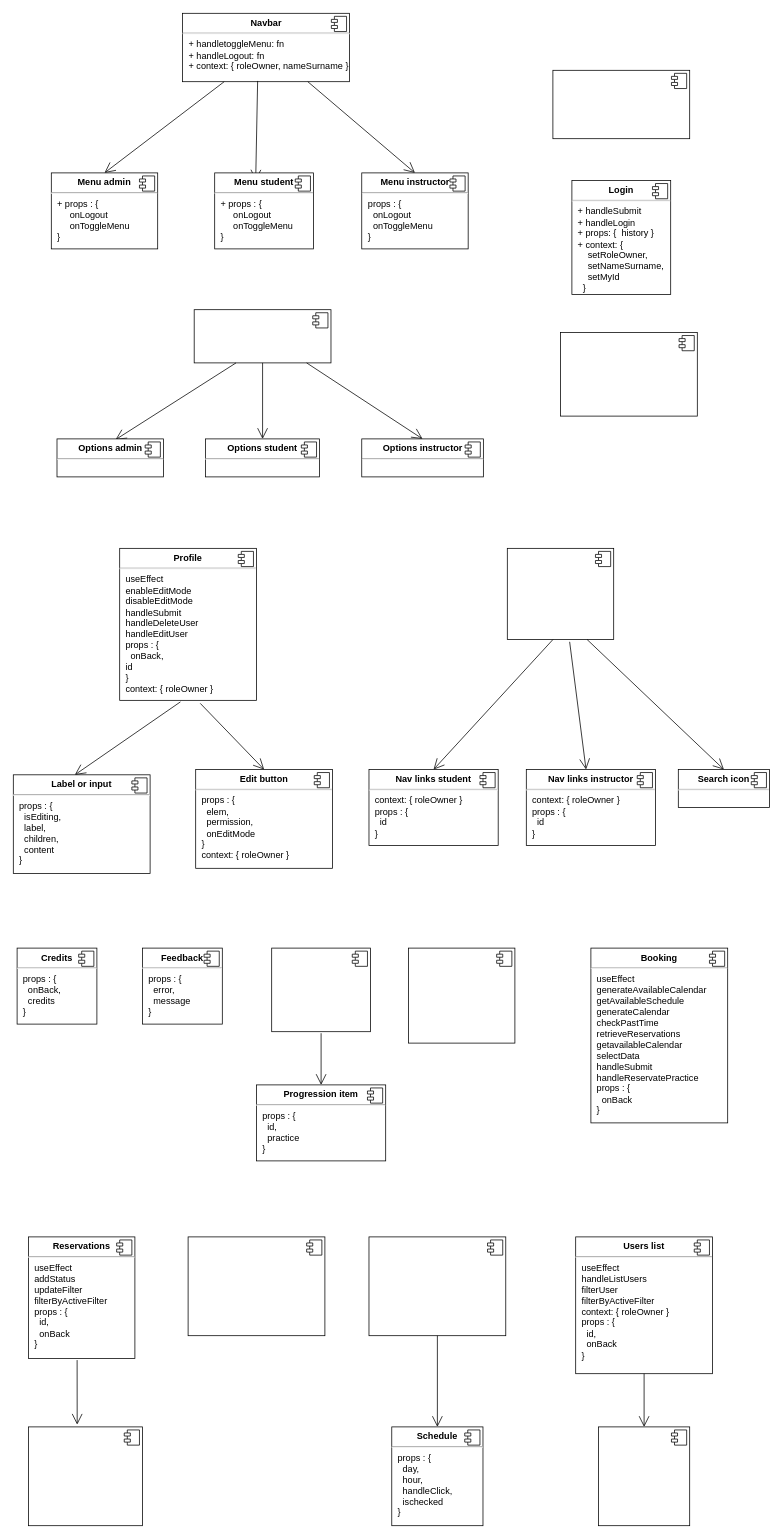
Image size: 783x1539. Some labels were removed from this diagram. Each missing label, with the centre of its shape:
"Account useEffect props : { onBack, id, history }" belongs at point 560,594.
"App + handleGoBack + useEffect + props: { history }" belongs at point 621,104.
"Home + props: { name } + context: { roleOwner}" belongs at point 262,336.
"Progression useEffect, props : { id, onBack }" belongs at point 320,989.
"Register handleSubmit handleregister props : { onBack }" belongs at point 628,374.
"Reservation card handleDetail props : { history, practice, role }" belongs at point 85,1476.
"Reservations detail useEffect handleCancel props : { id, onBack }" belongs at point 256,1286.
"Schedule useEffect updateSlot props : { id, onBack }" belongs at point 437,1286.
"User item props : { day, hour, handleClick, ischecked }" belongs at point 644,1476.
"Valoration useEffect, handleValoratePractice props : { id, onBack }" belongs at point 461,995.
